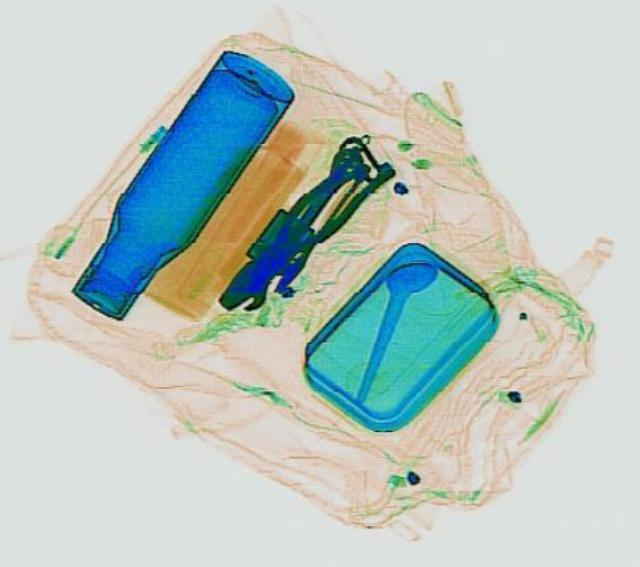Pliers: (218, 141, 396, 300)
Wrench: (216, 138, 374, 313)
